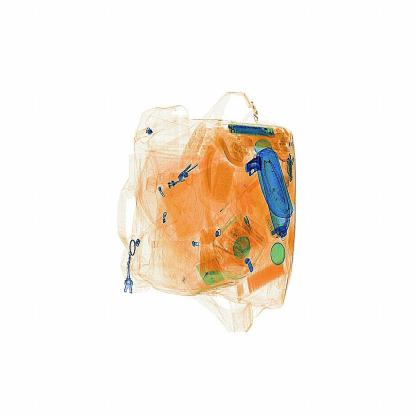knife: (242, 155, 264, 179)
